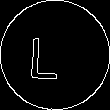L_N: (38, 29, 72, 81)
